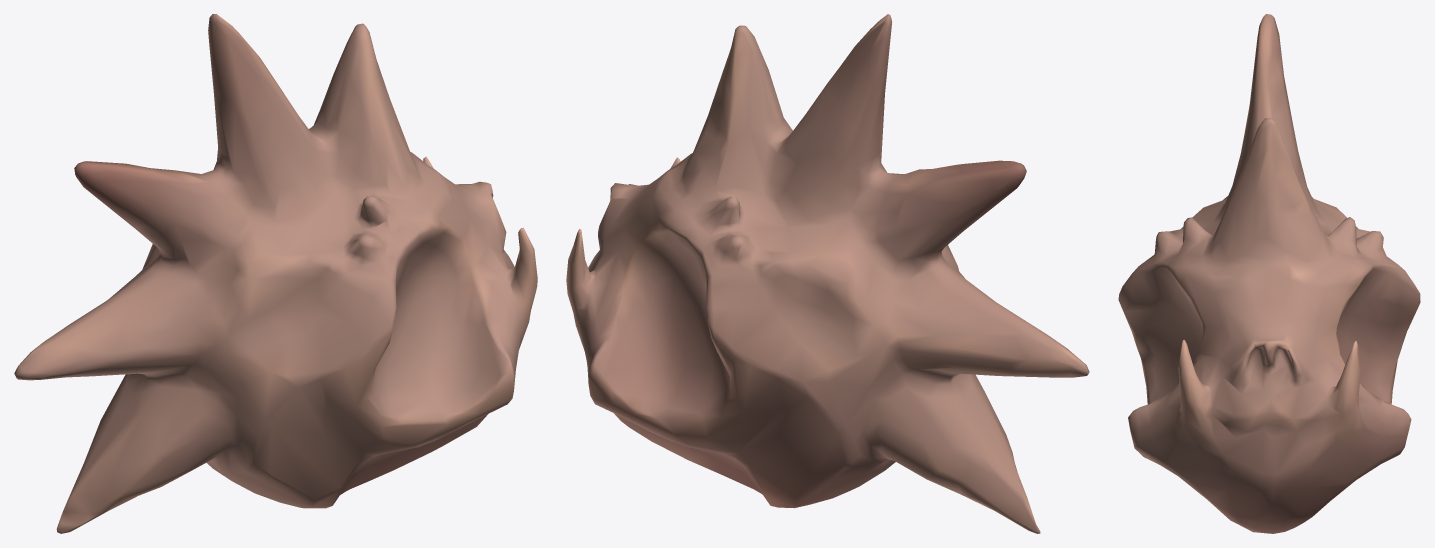
The model's file is glowa_pokemona.fbx.
3 views of the same model, side by side, from view 1: azimuth 30°, elevation 25°; view 2: azimuth 150°, elevation 25°; view 3: azimuth 270°, elevation 25° (orthographic). The views are drawn at different scales.
Visible parts, largest first — view 1: glowa_pokemona; view 2: glowa_pokemona; view 3: glowa_pokemona.
Part boxes in pixels (box(x1,y1,x2,y2)): glowa_pokemona: box(14, 14, 537, 533); glowa_pokemona: box(566, 14, 1089, 533); glowa_pokemona: box(1118, 14, 1420, 533).
Bounding box in the file's own units: 87.96 × 86.91 × 52.92.
